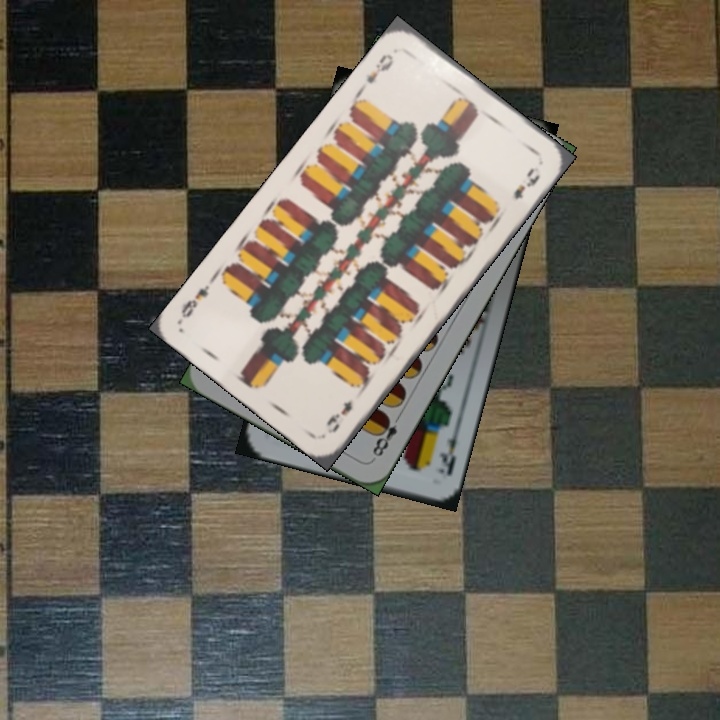E8: (368, 409, 404, 463)
E9: (356, 50, 397, 94), (322, 396, 356, 437)
EK: (433, 423, 463, 478)
